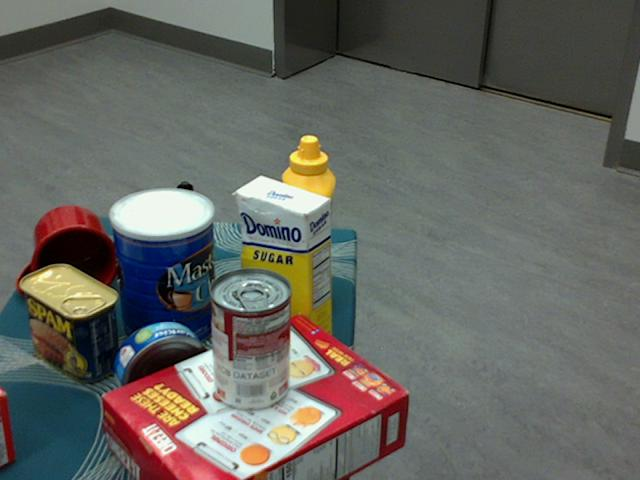cracker_box: (102, 315, 409, 479)
gelatin_box: (0, 386, 15, 463)
large_marker: (177, 180, 196, 277)
master_chef_can: (108, 188, 216, 353)
mug: (19, 205, 118, 302)
mustard_bottle: (279, 134, 333, 313)
potted_meat_can: (18, 262, 119, 381)
sugar_box: (236, 174, 331, 364)
tomato_soup_can: (207, 269, 290, 412)
tuna_fish_can: (113, 321, 212, 417)
